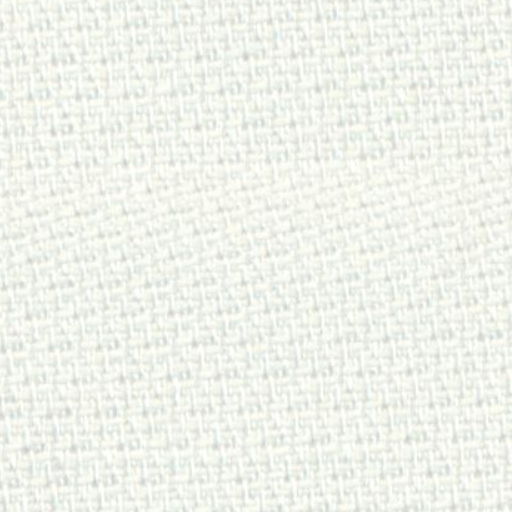TuoSha: (24, 126, 486, 380)
